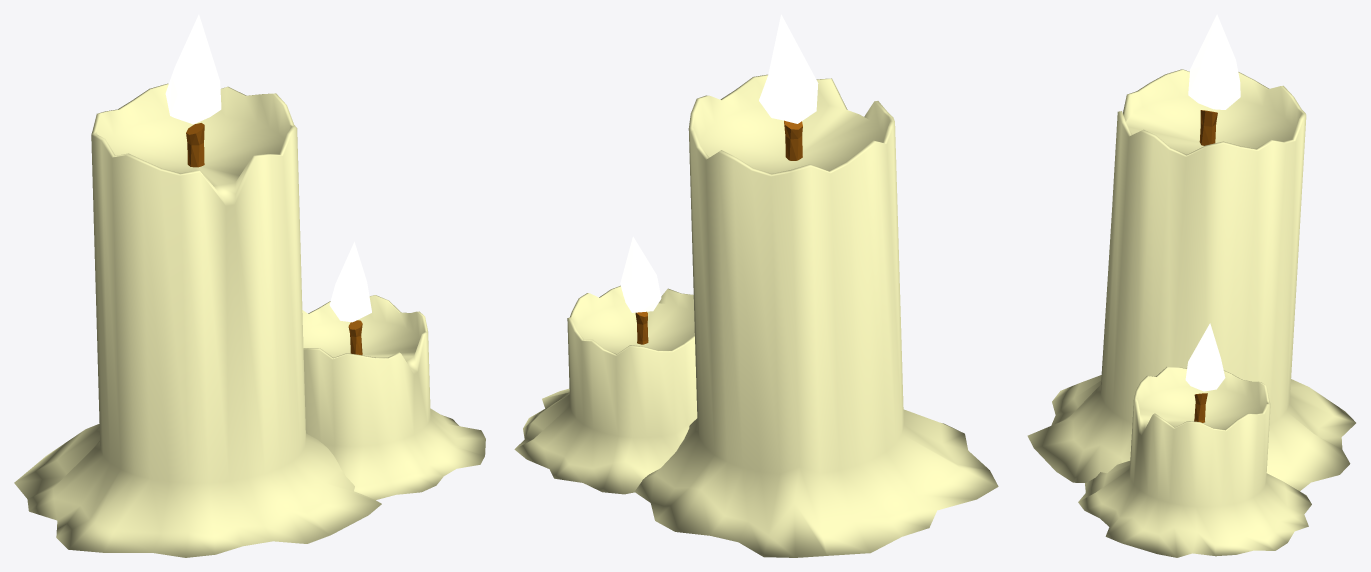
Rendered from velas_1.gltf.
3 renders of one model, left to right at view 1: azimuth 30°, elevation 25°; view 2: azimuth 150°, elevation 25°; view 3: azimuth 270°, elevation 25°, orthographic. The views are drawn at different scales.
Parts seen in each view (by area): view 1: Cylinder.005; view 2: Cylinder.005; view 3: Cylinder.005.
Boxes of the visible parts, x1,y1,x2,y2 form: Cylinder.005: [14, 14, 485, 557]; Cylinder.005: [514, 14, 998, 557]; Cylinder.005: [1027, 14, 1355, 557].
Size of the model in its own units: 2.16 by 2.24 by 1.54.
